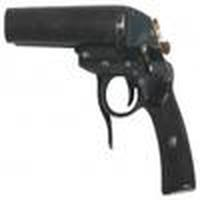gun: (3, 8, 200, 198)
